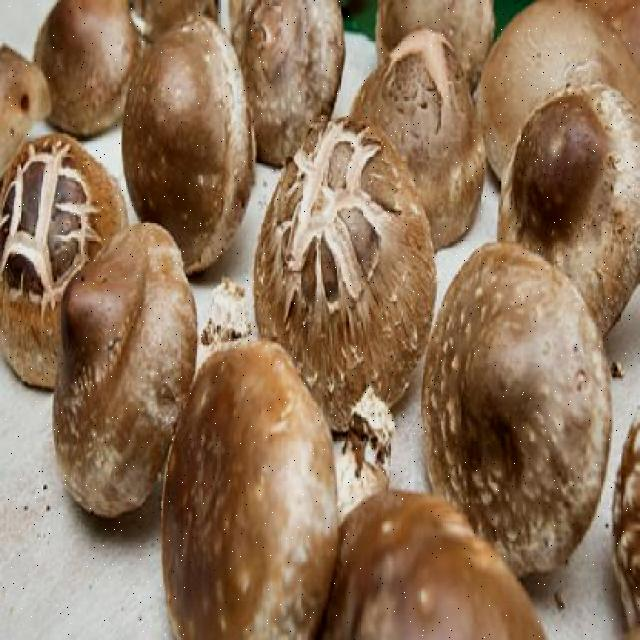Mushroom: (236, 92, 452, 432), (39, 206, 199, 537), (109, 7, 276, 261)
